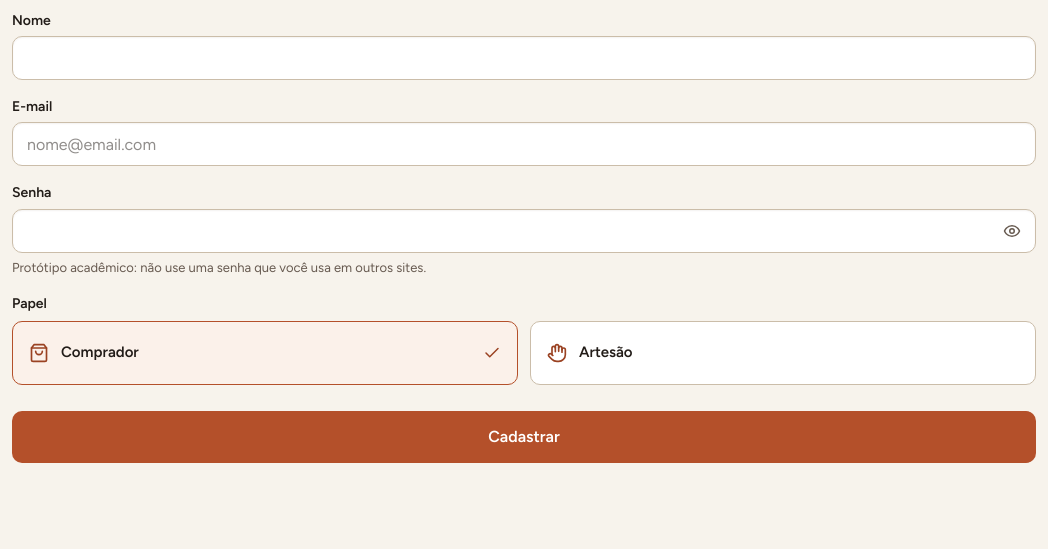
Test: CadastroForm › mostra erro recuperavel quando o service falha
Type "Maria Artesa" into the field labelled "Nome" at (524, 58), box [12,36,1036,80]
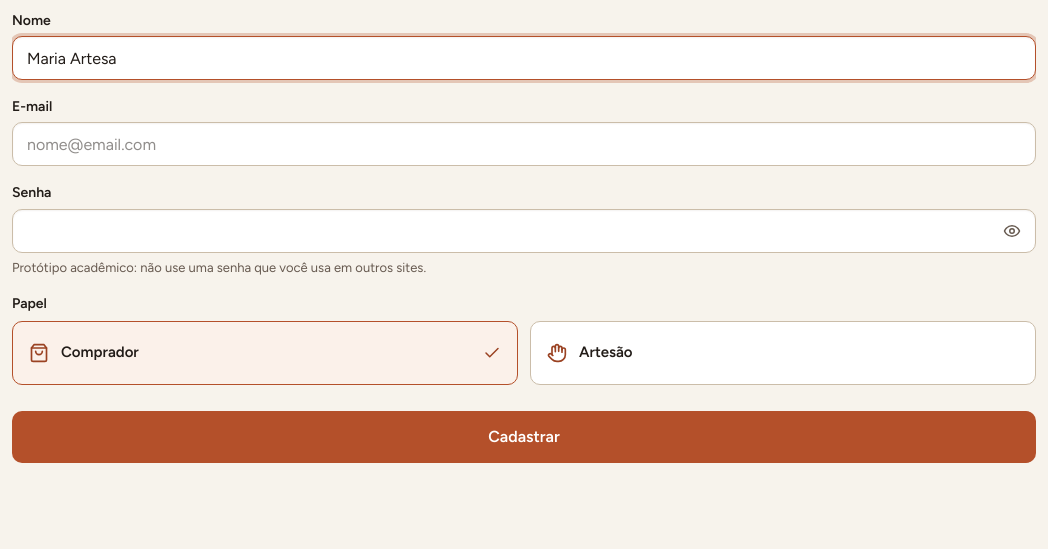
Type "maria@origem.test" into the field labelled "E-mail" at (524, 144), box [12,122,1036,166]
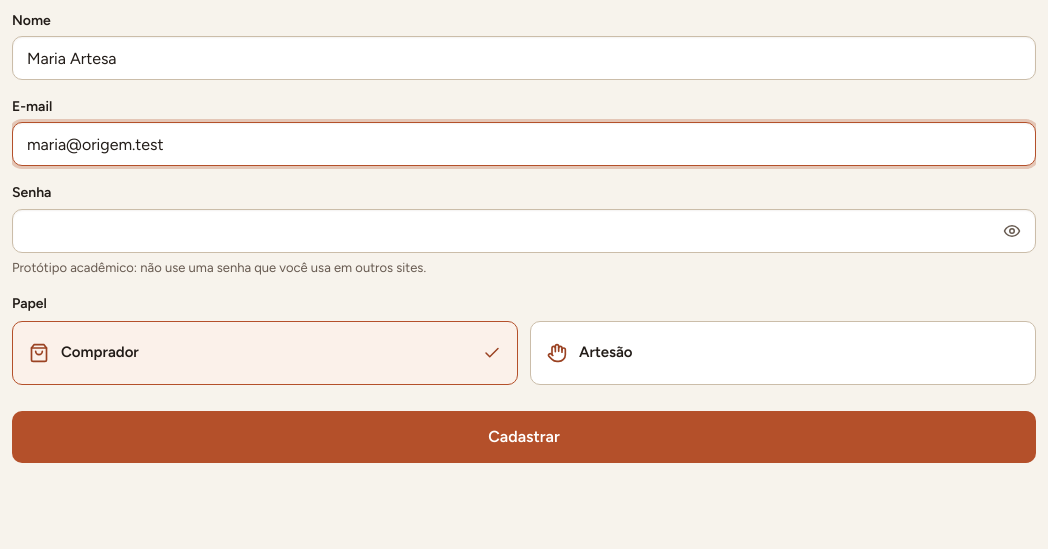
Type "senha1234" into the password field labelled "Senha" at (524, 231), box [12,209,1036,253]
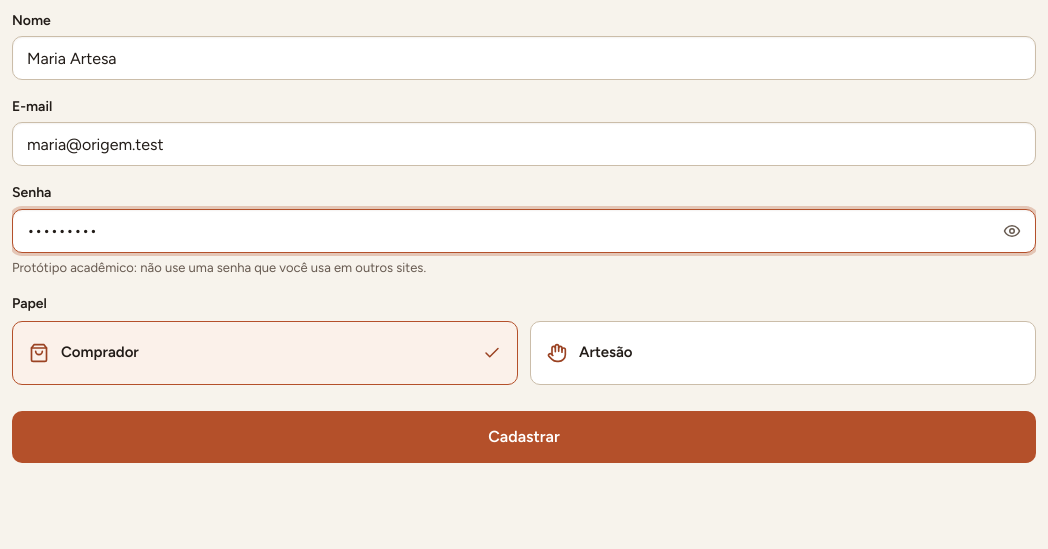
Click the button "Cadastrar" at (524, 437), box [12,411,1036,463]
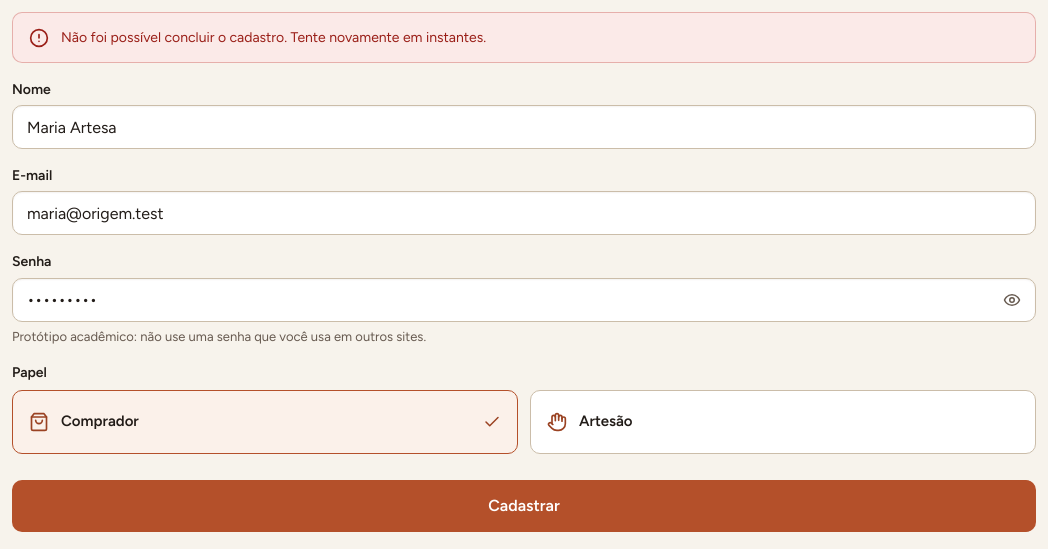
Expected: the button "Cadastrar" is enabled, [12,480,1036,532]
Result: the message reads "Não foi possível concluir o cadastro. Tente novamente em instantes." at [61,29,486,46]
